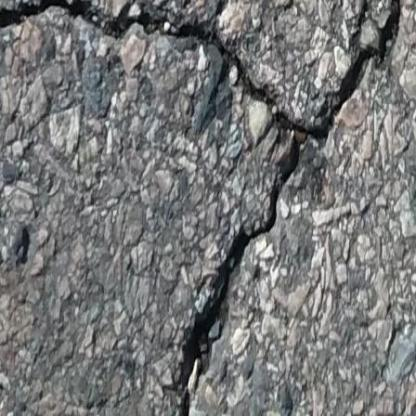Cracks: (0, 0, 416, 134)
